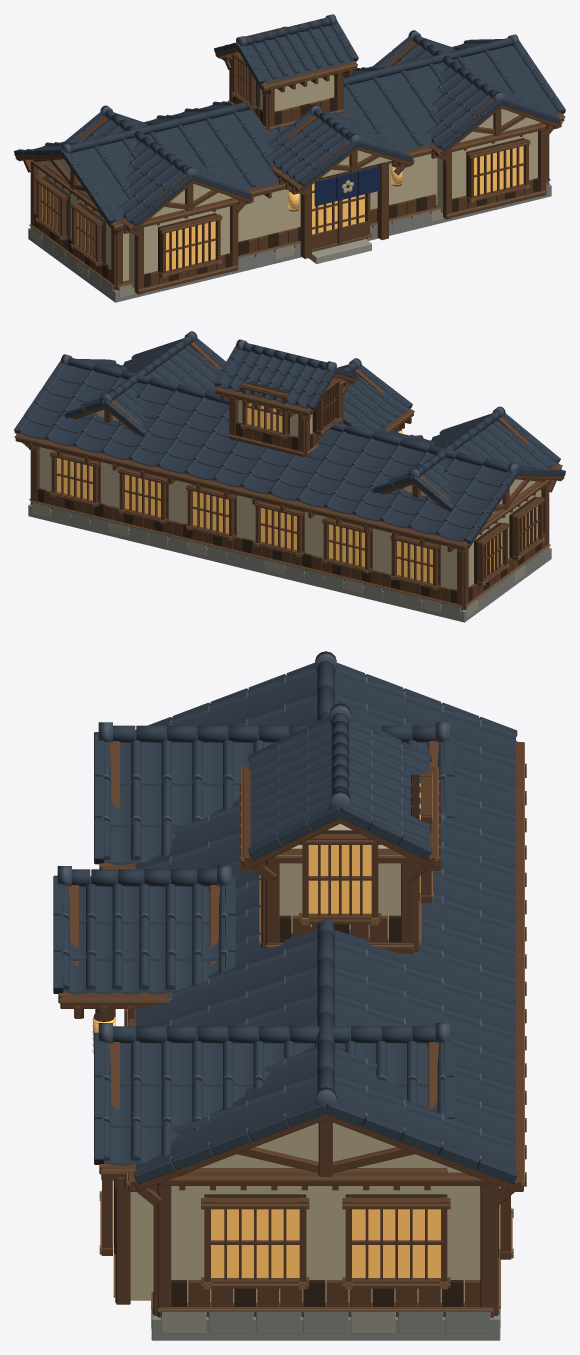
3 views of the same model, one above another, from view 1: azimuth 30°, elevation 25°; view 2: azimuth 150°, elevation 25°; view 3: azimuth 270°, elevation 25° (orthographic). The views are drawn at different scales.
Parts seen in each view (by area): view 1: compact_skyscraper_1_geometry; view 2: compact_skyscraper_1_geometry; view 3: compact_skyscraper_1_geometry.
Part boxes in pixels (x1,y1,x2,y2): compact_skyscraper_1_geometry: (14,14,565,302); compact_skyscraper_1_geometry: (14,331,565,622); compact_skyscraper_1_geometry: (53,651,526,1340).
Size of the model in its own units: 2.27 by 0.8981 by 1.02.
